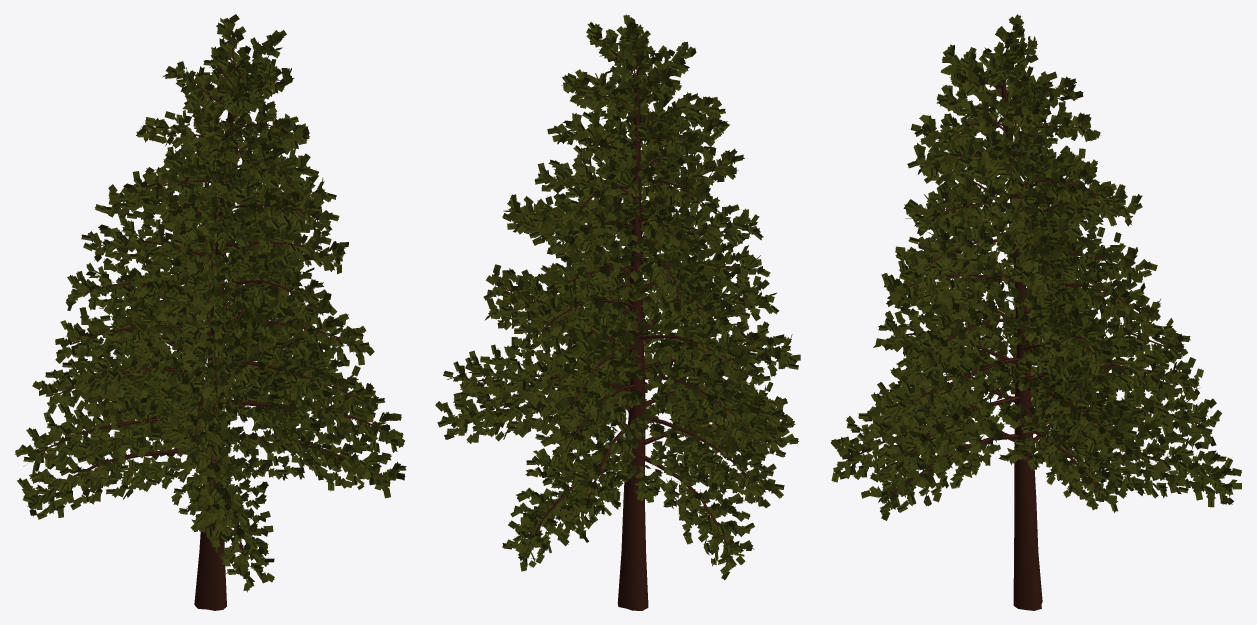
File: tree_low_detail_2.FBX
3 renders of one model, left to right at view 1: azimuth 30°, elevation 25°; view 2: azimuth 150°, elevation 25°; view 3: azimuth 270°, elevation 25°, orthographic. The views are drawn at different scales.
Visible parts, largest first — view 1: Foliage001; view 2: Foliage001; view 3: Foliage001.
Part boxes in pixels (bbox=[...]): Foliage001: bbox=[14, 14, 406, 610]; Foliage001: bbox=[435, 14, 800, 610]; Foliage001: bbox=[830, 14, 1241, 610].
Size of the model in its own units: 407 by 685 by 430.
